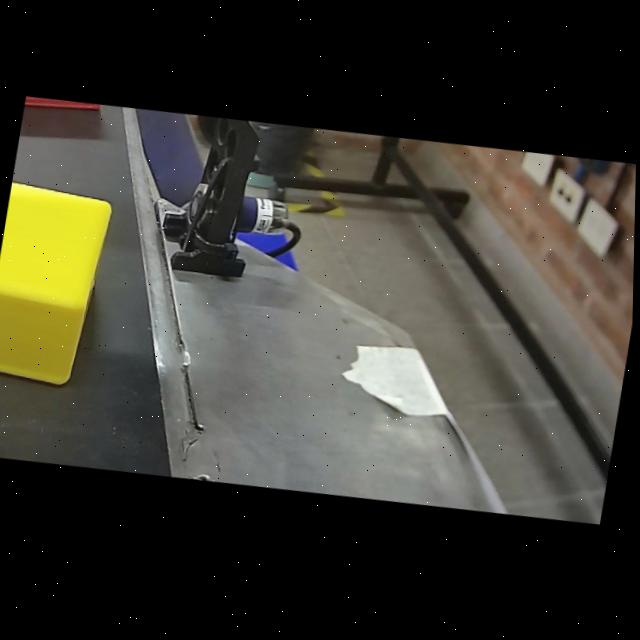redBox: (24, 95, 111, 124)
yellowBox: (0, 168, 124, 405)
